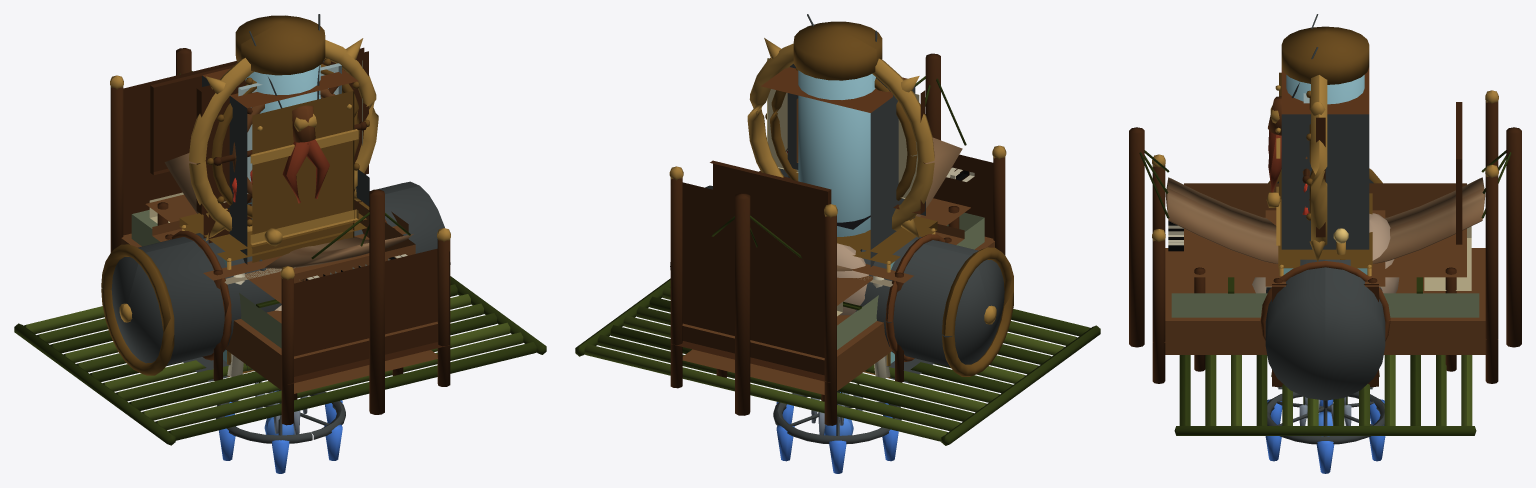
Rendered from decor.glb.
The picture shows the model from 3 angles, left to right: view 1: azimuth 30°, elevation 25°; view 2: azimuth 150°, elevation 25°; view 3: azimuth 270°, elevation 25°; orthographic projection. The views are drawn at different scales.
Visible parts, largest first — view 1: galleon_captains_bed, woven_kelp_rug, dreadnought_torpedo_tube_locker, dreadnought_brass_locker, restored_galleon_harpsichord, galleon_brass_porthole_frame, grazer_hide_hammock, jelly_bioluminescence_tube, scavenger_hydraulic_pincer, galleon_map_board, echo_ray_specimen_tank, phosphor_mat_chandelier_glow (+6 smaller); view 2: galleon_captains_bed, woven_kelp_rug, dreadnought_torpedo_tube_locker, jelly_bioluminescence_tube_glass, galleon_brass_porthole_frame, grazer_hide_hammock, dreadnought_brass_locker, restored_galleon_harpsichord, jelly_bioluminescence_tube, echo_ray_specimen_tank, phosphor_mat_chandelier_glow, galleon_map_board (+4 smaller); view 3: galleon_captains_bed, grazer_hide_hammock, dreadnought_torpedo_tube_locker, dreadnought_brass_locker, woven_kelp_rug, restored_galleon_harpsichord, jelly_bioluminescence_tube, galleon_brass_porthole_frame, phosphor_mat_chandelier_glow, echo_ray_specimen_tank, phosphor_mat_chandelier, captains_log_desk (+4 smaller).
Boxes of the visible parts, bbox=[...] form: galleon_captains_bed: bbox=[110, 61, 450, 425]; woven_kelp_rug: bbox=[14, 276, 546, 445]; dreadnought_torpedo_tube_locker: bbox=[101, 181, 450, 381]; dreadnought_brass_locker: bbox=[202, 68, 358, 370]; restored_galleon_harpsichord: bbox=[145, 65, 415, 400]; galleon_brass_porthole_frame: bbox=[189, 38, 378, 240]; grazer_hide_hammock: bbox=[150, 48, 413, 414]; jelly_bioluminescence_tube: bbox=[235, 15, 325, 75]; scavenger_hydraulic_pincer: bbox=[249, 14, 329, 203]; galleon_map_board: bbox=[196, 47, 368, 214]; echo_ray_specimen_tank: bbox=[179, 202, 369, 377]; phosphor_mat_chandelier_glow: bbox=[219, 390, 342, 473]; galleon_captains_bed: bbox=[669, 145, 1006, 425]; woven_kelp_rug: bbox=[575, 278, 1100, 445]; dreadnought_torpedo_tube_locker: bbox=[670, 185, 1013, 382]; jelly_bioluminescence_tube_glass: bbox=[798, 70, 875, 236]; galleon_brass_porthole_frame: bbox=[747, 38, 934, 238]; grazer_hide_hammock: bbox=[711, 53, 966, 415]; dreadnought_brass_locker: bbox=[761, 67, 915, 367]; restored_galleon_harpsichord: bbox=[710, 160, 974, 401]; jelly_bioluminescence_tube: bbox=[793, 21, 882, 80]; echo_ray_specimen_tank: bbox=[837, 216, 937, 378]; phosphor_mat_chandelier_glow: bbox=[776, 392, 898, 473]; galleon_map_board: bbox=[759, 58, 925, 214]; galleon_captains_bed: bbox=[1152, 90, 1498, 383]; grazer_hide_hammock: bbox=[1129, 127, 1521, 347]; dreadnought_torpedo_tube_locker: bbox=[1260, 168, 1390, 400]; dreadnought_brass_locker: bbox=[1266, 67, 1369, 249]; woven_kelp_rug: bbox=[1174, 355, 1476, 435]; restored_galleon_harpsichord: bbox=[1168, 102, 1466, 371]; jelly_bioluminescence_tube: bbox=[1281, 26, 1369, 84]; galleon_brass_porthole_frame: bbox=[1306, 75, 1327, 261]; phosphor_mat_chandelier_glow: bbox=[1265, 399, 1385, 473]; echo_ray_specimen_tank: bbox=[1278, 193, 1372, 276]; phosphor_mat_chandelier: bbox=[1267, 391, 1384, 444]; captains_log_desk: bbox=[1265, 210, 1385, 387].
Bounding box in the file's own units: 2.72 × 2.93 × 2.5.
